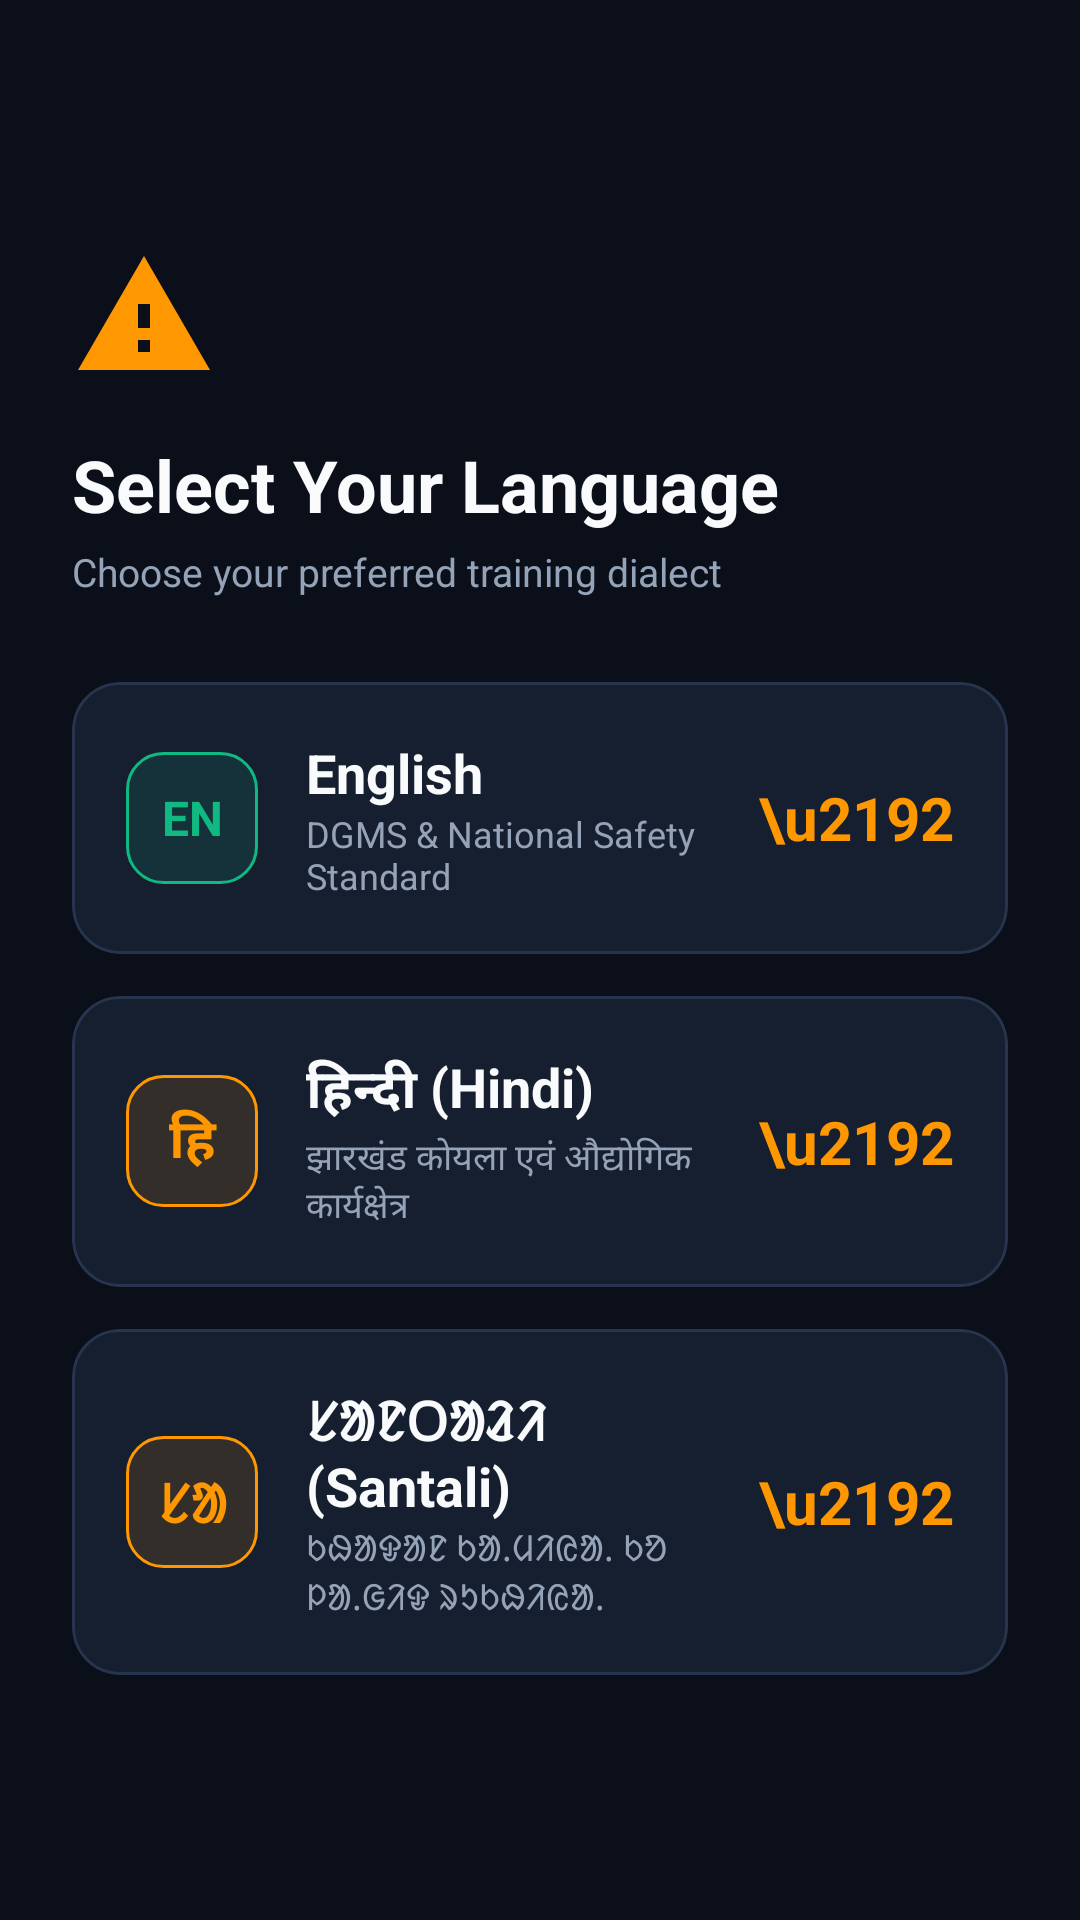

Screen size 1080px×1920px. Icon name, then its center in pixels as (x,y):
hazard warning: (144,313)
